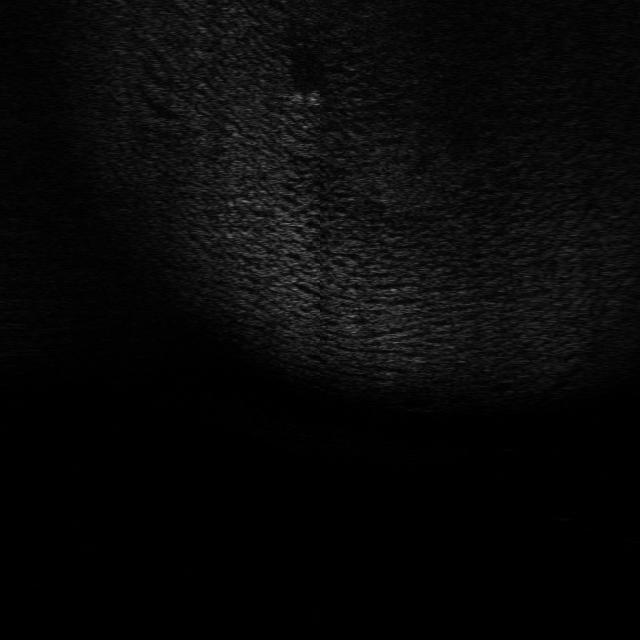plane: (286, 85, 326, 112)
